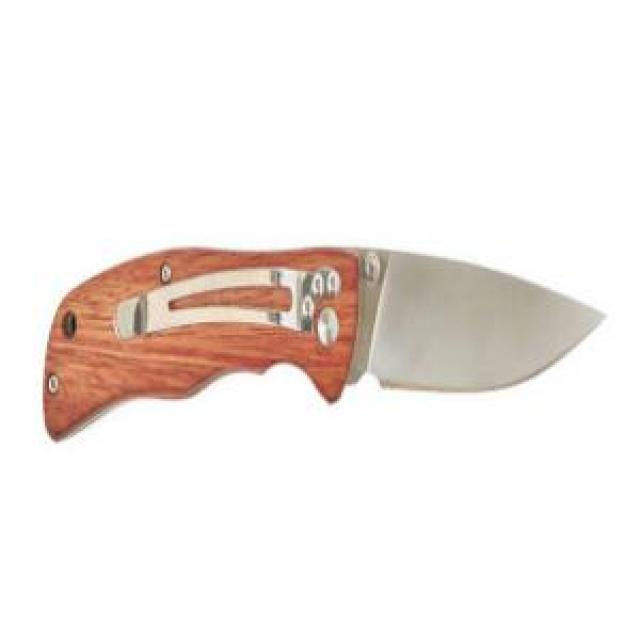knife: (34, 241, 608, 450)
